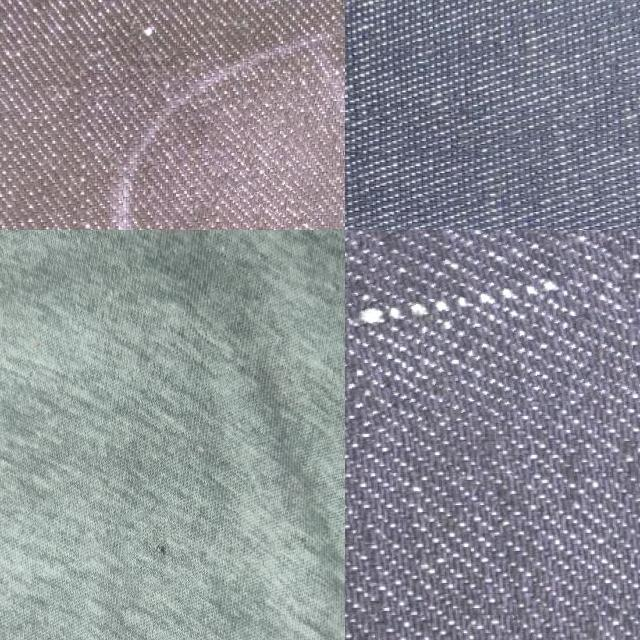other: (118, 508, 190, 594)
stains: (345, 230, 633, 457), (214, 90, 329, 230)
